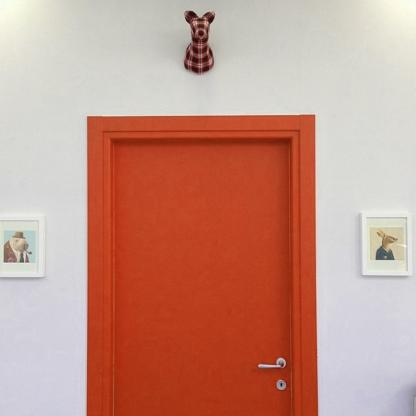door: (110, 136, 292, 416)
lever: (257, 360, 284, 370)
